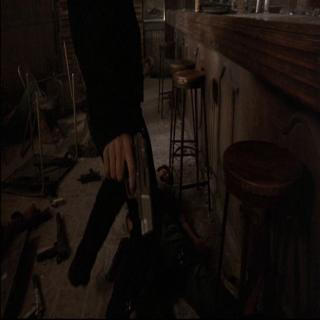gun: (112, 122, 156, 245)
